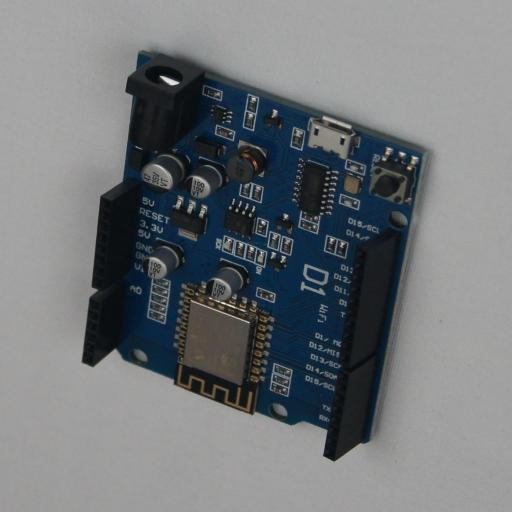Arduino Uno WiFi Shield: (82, 50, 428, 461)
